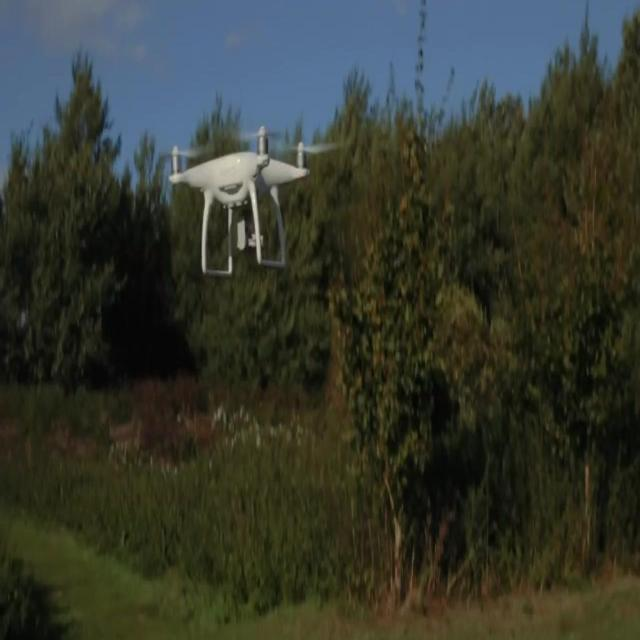drone: (173, 121, 314, 271)
